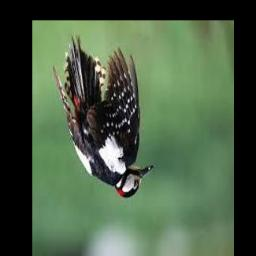Woodpecker: (54, 33, 154, 199)
